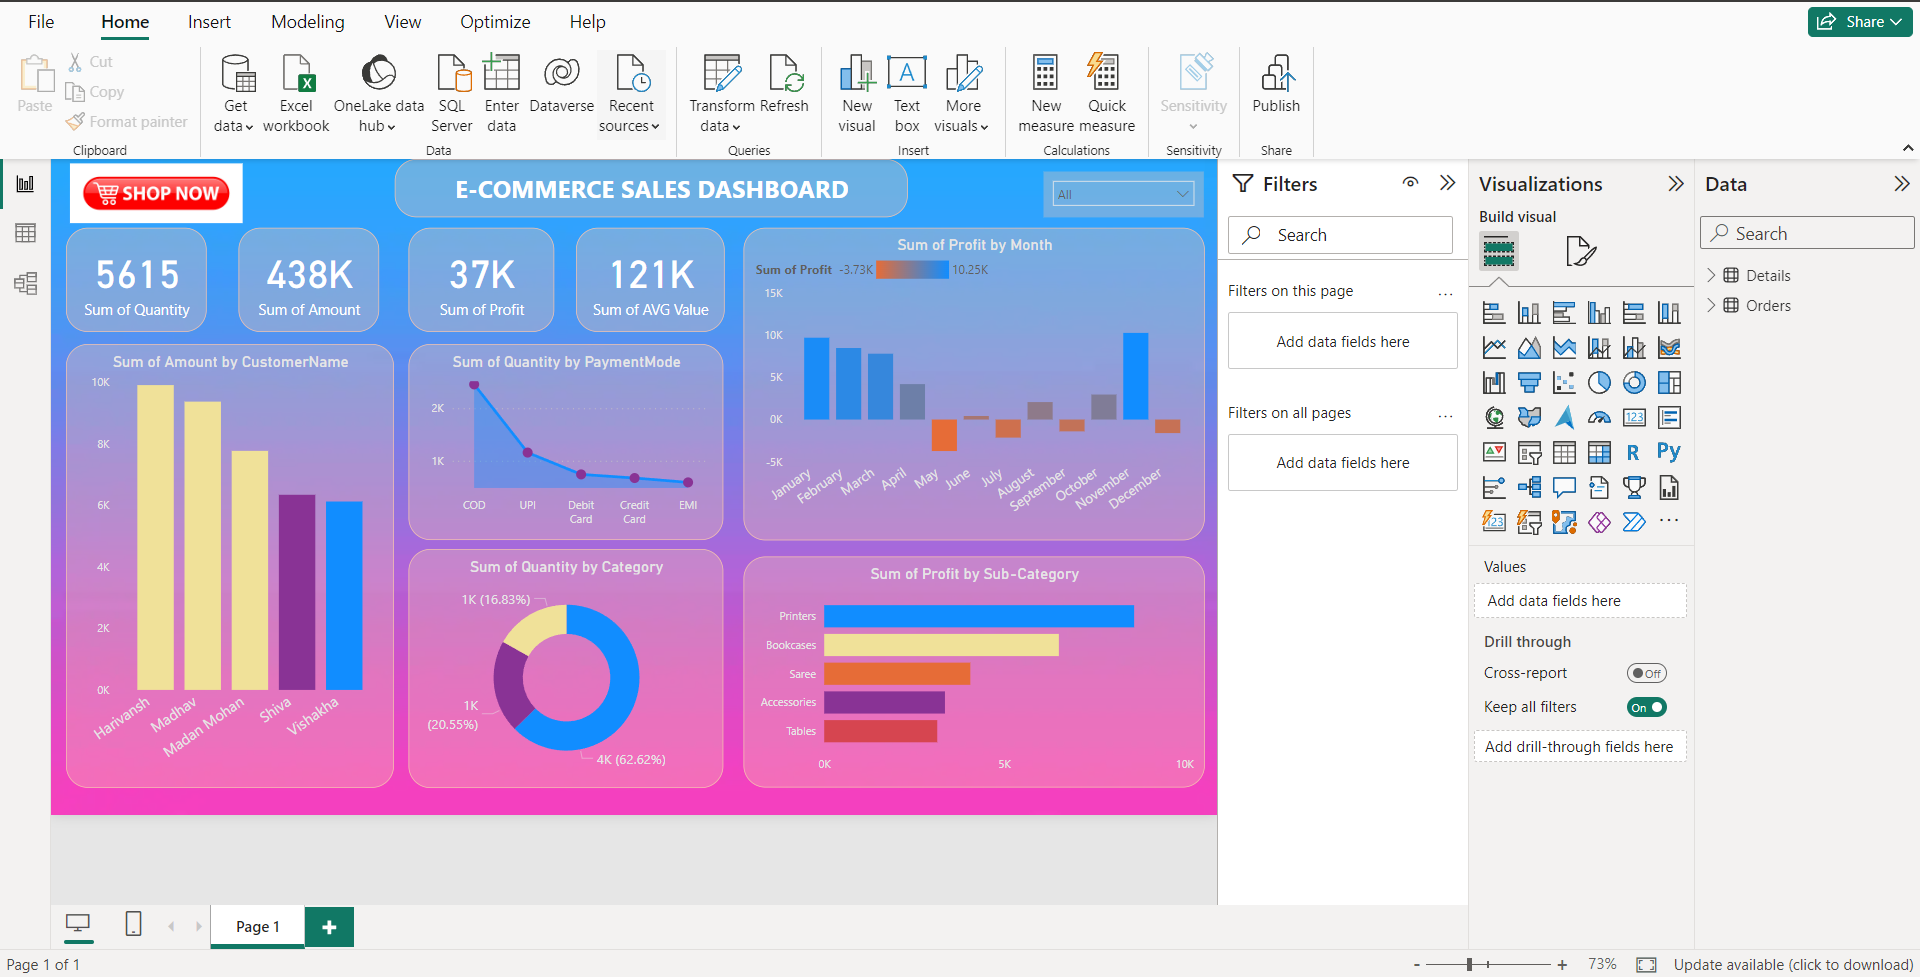

What the dashboard file says about the page in this screenshot:
{"tool":"powerbi","page":{"name":"Page 1","canvas":[1280,720],"ordinal":0},"visuals":[{"type":"columnChart","fields":{"Y":["Sum(Details.Profit)"],"Category":["Orders.Order Date.Variation.Date Hierarchy.Month"]},"box":[760.2,75.5,506.3,343.1],"z":0},{"type":"barChart","fields":{"Category":["Details.Sub-Category"],"Y":["Sum(Details.Profit)"]},"box":[760.2,436.4,506.3,253.9],"z":1000},{"type":"donutChart","fields":{"Category":["Details.Category"],"Y":["Sum(Details.Quantity)"]},"box":[392.5,428.1,345.8,262.1],"z":2000},{"type":"stackedAreaChart","fields":{"Category":["Details.PaymentMode"],"Y":["Sum(Details.Quantity)"]},"box":[392.5,203.1,345.8,215.4],"z":3000},{"type":"card","fields":{"Values":["Sum(Details.Amount)"]},"box":[205.7,75.7,154.3,114.3],"z":4000},{"type":"card","fields":{"Values":["Sum(Details.Quantity)"]},"box":[17.1,75.7,154.3,114.3],"z":5000},{"type":"card","fields":{"Values":["Sum(Details.Profit)"]},"box":[392.9,75.7,160,114.3],"z":6000},{"type":"card","fields":{"Values":["Sum(Details.AVG Value)"]},"box":[575.7,75.7,162.9,114.3],"z":7000},{"type":"columnChart","fields":{"Category":["Orders.CustomerName"],"Y":["Sum(Details.Amount)"]},"box":[17.1,202.9,360,487.1],"z":8000},{"type":"textbox","box":[377.1,0,562.9,64.3],"z":9000},{"type":"image","box":[0,0,231.4,75.7],"z":10000},{"type":"slicer","fields":{"Values":["Orders.State"]},"box":[1090,14.3,175.7,50],"z":11000}]}

Visuals, with their boxes on the page's 1280x720 design canvas (x1, y1, x2, y2). These are canvas units, not pixel positions in the 1920x977 screenshot, which may show the page scaled, cropped or inside an application window:
columnChart - Sum(Details.Profit) x Orders.Order Date.Variation.Date Hierarchy.Month: (left=760, top=76, right=1266, bottom=419)
barChart - Details.Sub-Category x Sum(Details.Profit): (left=760, top=436, right=1266, bottom=690)
donutChart - Details.Category x Sum(Details.Quantity): (left=392, top=428, right=738, bottom=690)
stackedAreaChart - Details.PaymentMode x Sum(Details.Quantity): (left=392, top=203, right=738, bottom=418)
card - Sum(Details.Amount): (left=206, top=76, right=360, bottom=190)
card - Sum(Details.Quantity): (left=17, top=76, right=171, bottom=190)
card - Sum(Details.Profit): (left=393, top=76, right=553, bottom=190)
card - Sum(Details.AVG Value): (left=576, top=76, right=739, bottom=190)
columnChart - Orders.CustomerName x Sum(Details.Amount): (left=17, top=203, right=377, bottom=690)
textbox: (left=377, top=0, right=940, bottom=64)
image: (left=0, top=0, right=231, bottom=76)
slicer - Orders.State: (left=1090, top=14, right=1266, bottom=64)
